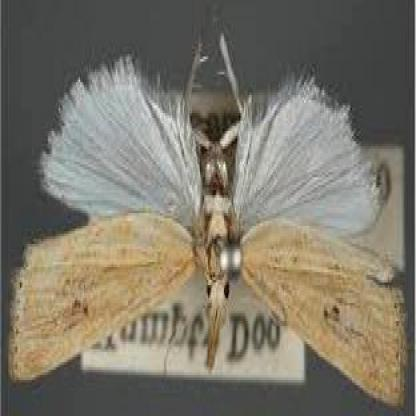stem-borer: (6, 20, 408, 411)
